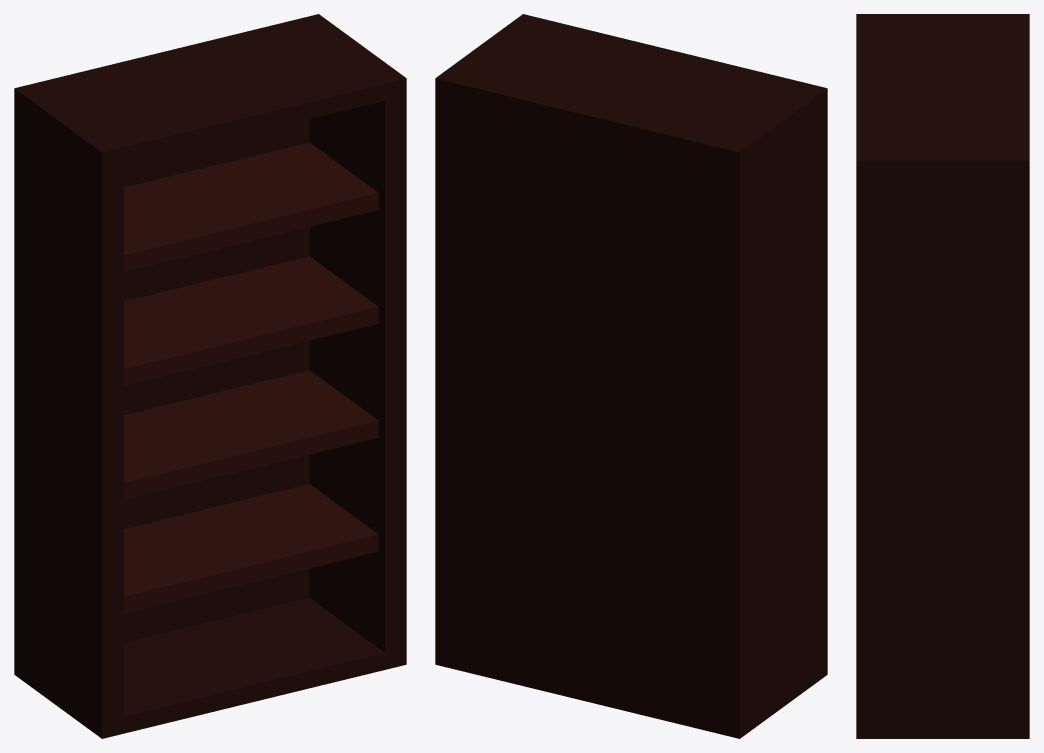
The model's file is Estanteria.FBX.
3 renders of one model, left to right at view 1: azimuth 30°, elevation 25°; view 2: azimuth 150°, elevation 25°; view 3: azimuth 270°, elevation 25°, orthographic.
Visible parts, largest first — view 1: Cube; view 2: Cube; view 3: Cube.
Boxes of the visible parts, x1,y1,x2,y2 form: Cube: [14, 14, 406, 738]; Cube: [435, 14, 827, 738]; Cube: [856, 14, 1029, 738].
Size of the model in its own units: 551 by 1014 by 276.
